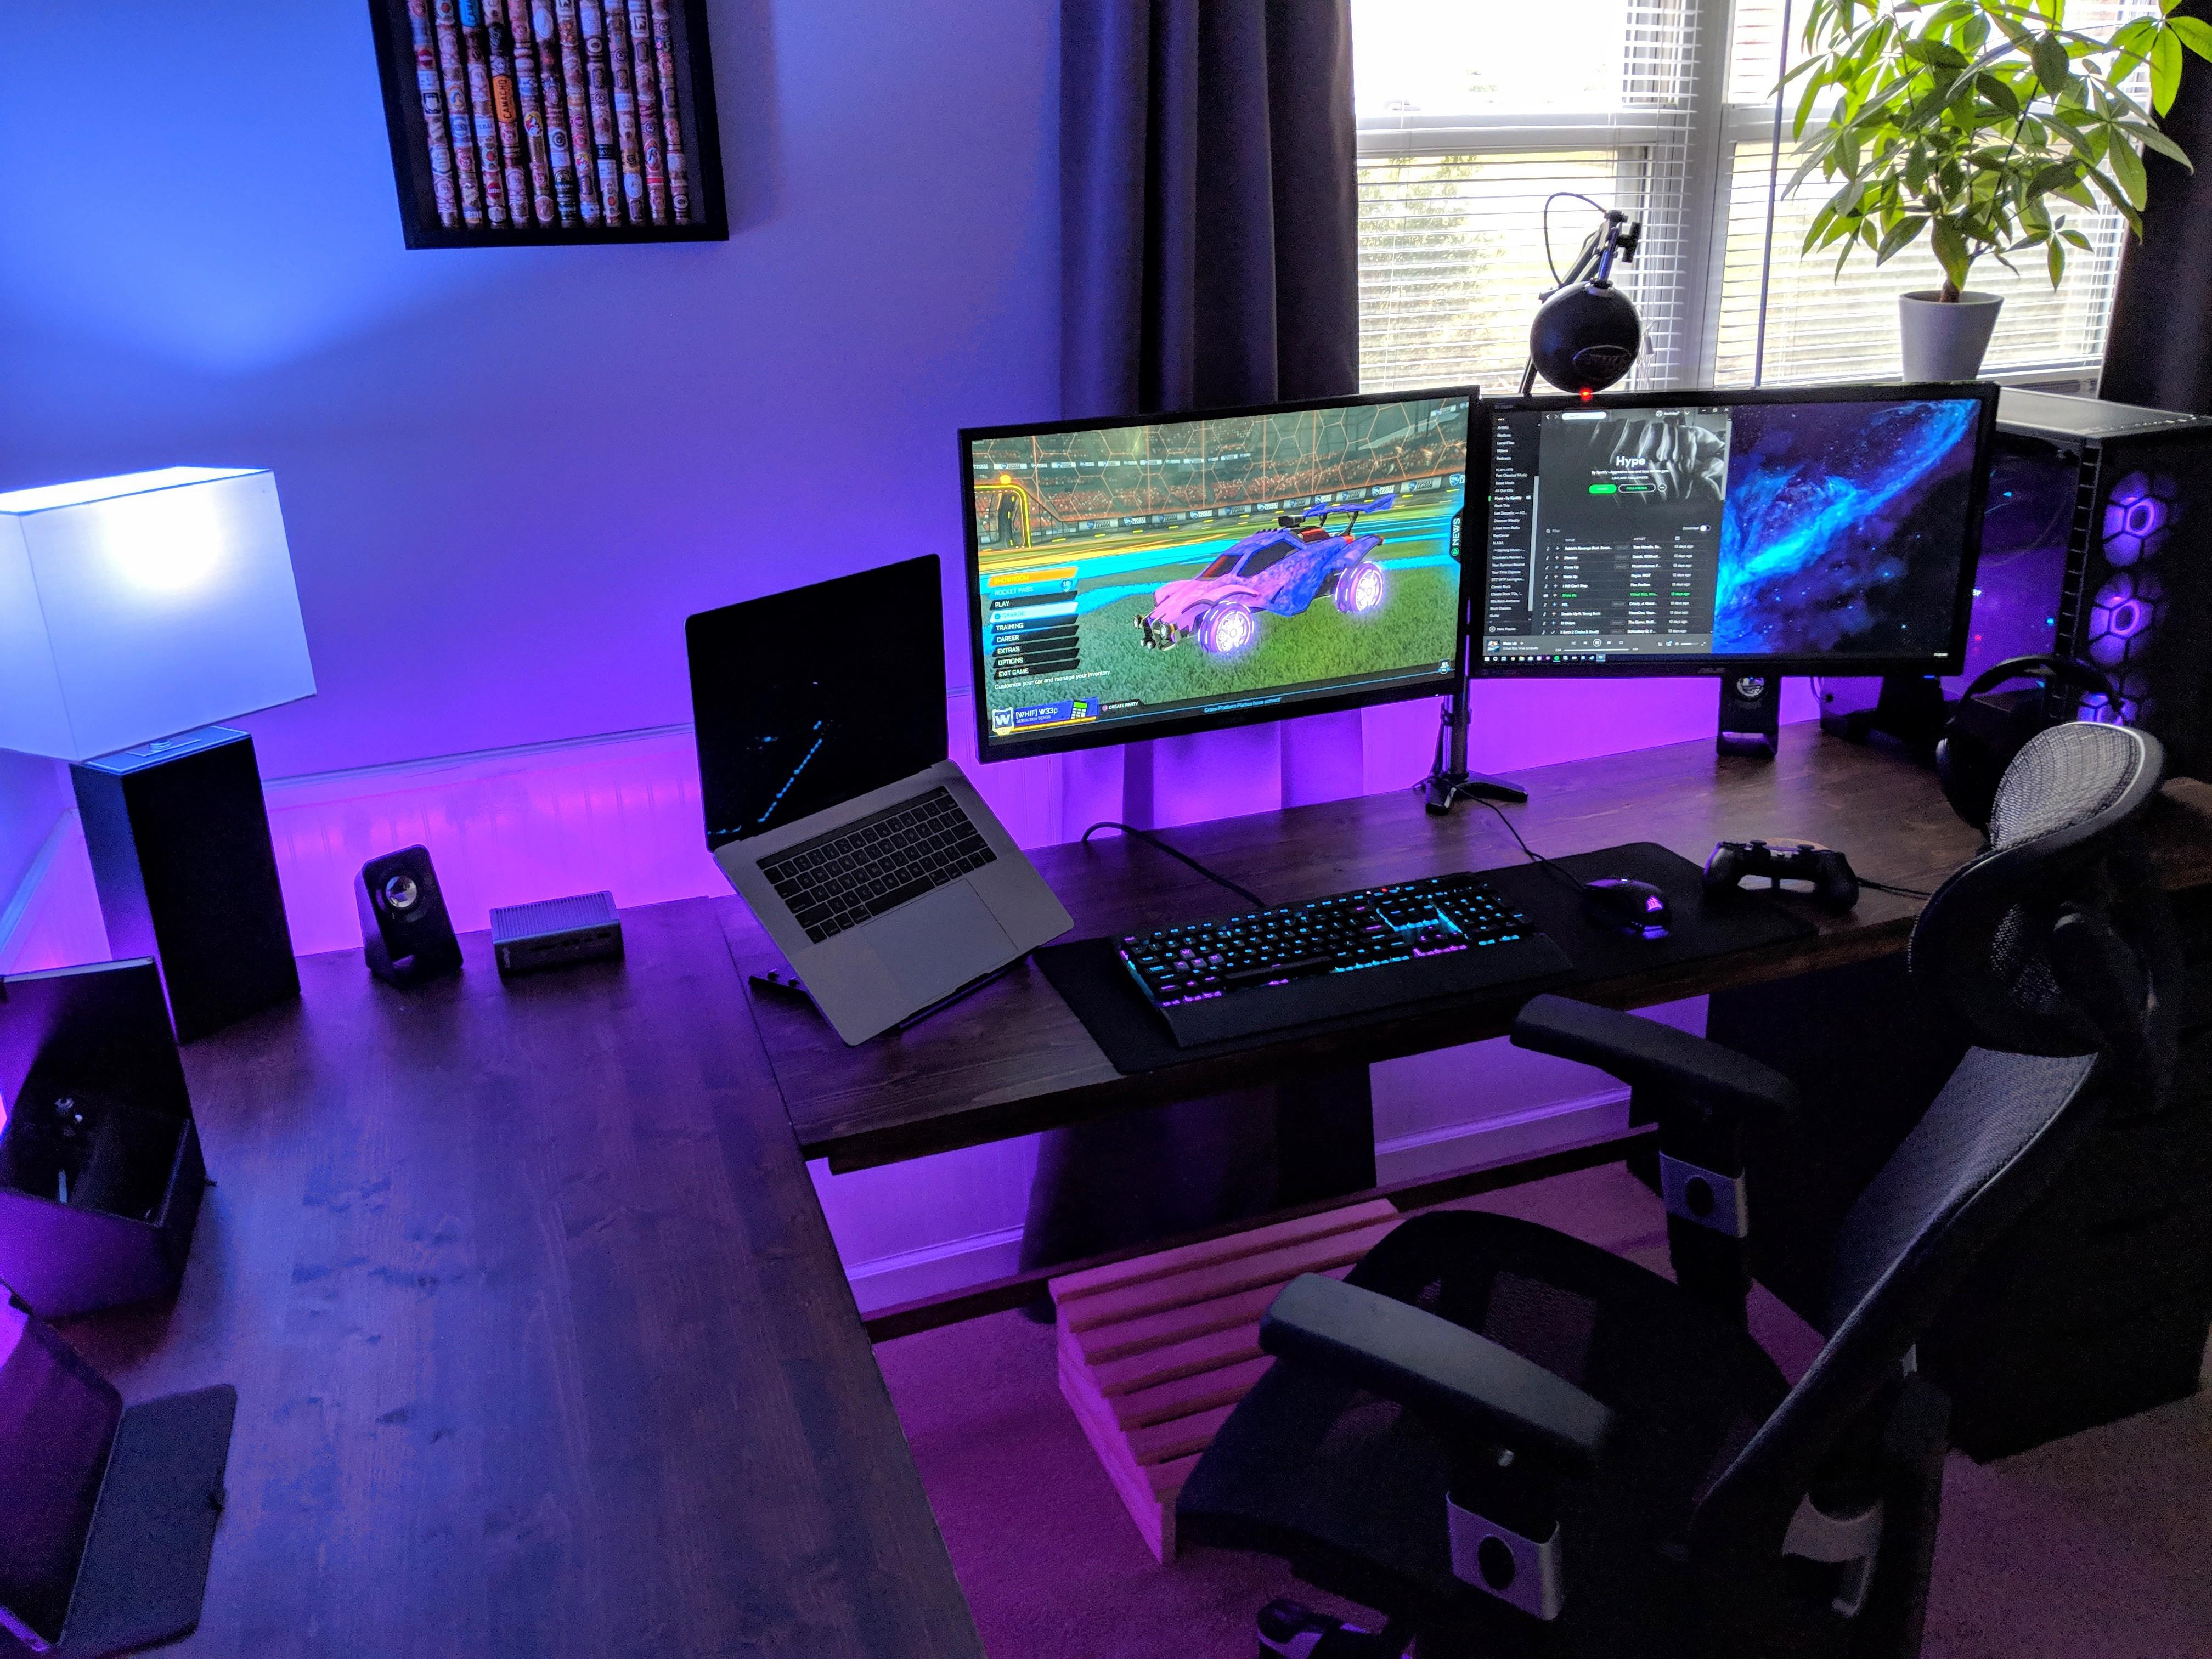Chair (Generic): (1143, 742, 2210, 1656)
Decoration (Plant): (1799, 12, 2212, 390)
Desk (Generic): (0, 894, 946, 1652), (752, 723, 2202, 1072)
Desktop (Windows): (1919, 396, 2172, 742)
External Microphone (with Boom Arm): (1533, 190, 1644, 392)
External Speakers (Generic): (352, 849, 472, 1000), (1703, 676, 1778, 762)
Footrest: (1010, 1220, 1540, 1575)
Gaming Controller: (1705, 824, 1879, 913)
Headphones: (1935, 666, 2137, 814)
Keyboard (Gaming): (1109, 896, 1576, 1011)
Lamp (Desk): (0, 469, 345, 1012)
Laptop (OSX): (655, 523, 1082, 1026)
Laptop Stand: (758, 922, 1017, 1044)
Monitor (Landscape): (1472, 396, 2073, 687), (944, 420, 1468, 723)
Mouse (Gaming): (1578, 856, 1674, 938)
Mousepad (Gaming): (1059, 904, 1804, 1021)
